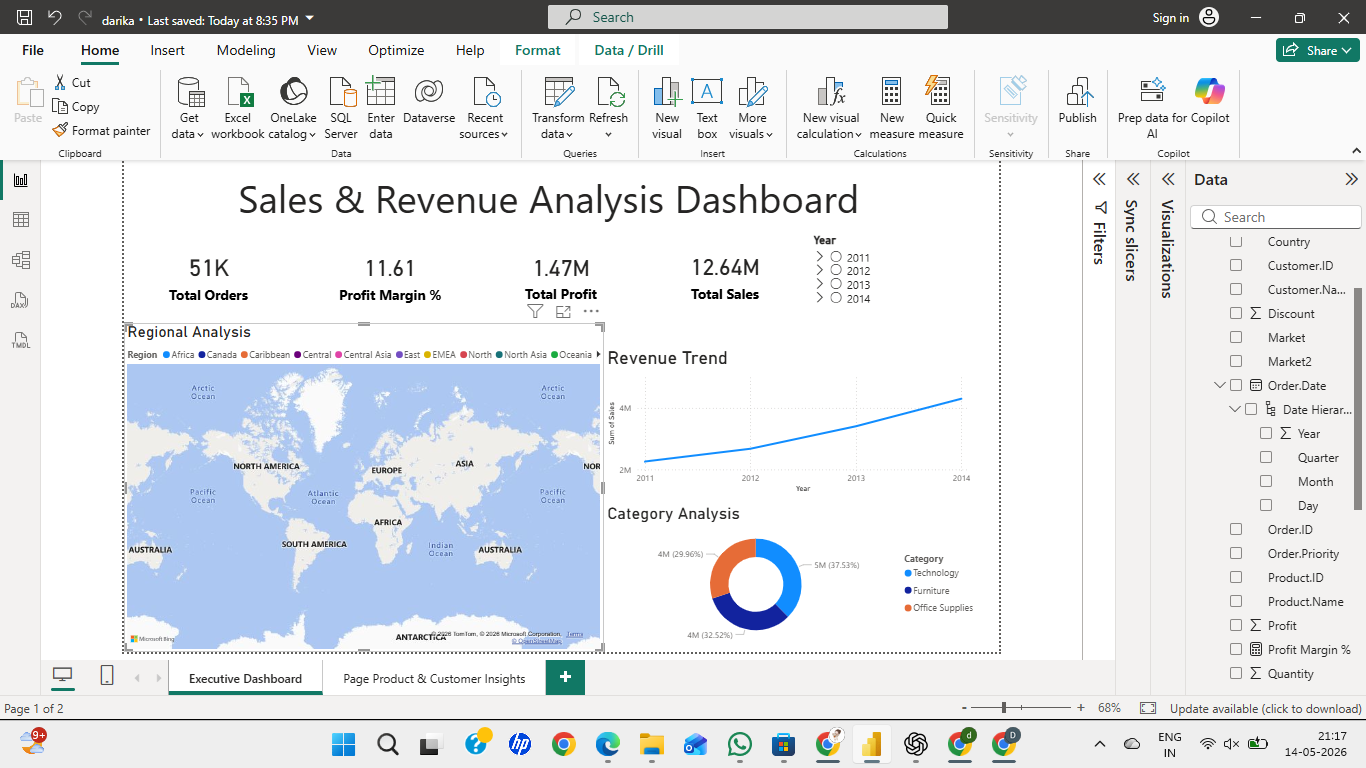

Layout of this report page (visuals, bound fields, positions):
{"tool":"powerbi","page":{"name":"Executive Dashboard","canvas":[1280,720],"ordinal":0},"visuals":[{"type":"card","fields":{"Values":["superstore.Total Orders"]},"box":[0,99.1,246.9,139.4],"z":0},{"type":"card","fields":{"Values":["superstore.Total Profit"]},"box":[509,104.1,260.4,129.3],"z":1000},{"type":"card","fields":{"Values":["superstore.Total Sales"]},"box":[739.1,94.1,280.5,149.5],"z":2000},{"type":"card","fields":{"Values":["superstore.Profit Margin %"]},"box":[246.9,104.1,283.9,131],"z":3000},{"type":"lineChart","title":"Revenue Trend","fields":{"Category":["superstore.Order.Date.Variation.Date Hierarchy.Year","superstore.Order.Date.Variation.Date Hierarchy.Quarter","superstore.Order.Date.Variation.Date Hierarchy.Month","superstore.Order.Date.Variation.Date Hierarchy.Day"],"Y":["Sum(superstore.Sales)"]},"box":[702.2,273.8,540.9,218.4],"z":4000},{"type":"donutChart","title":"Category Analysis","fields":{"Category":["superstore.Category"],"Y":["Sum(superstore.Sales)"]},"box":[702.2,503.9,554.3,208.3],"z":6000},{"type":"map","title":"Regional Analysis","fields":{"Series":["superstore.Region"],"Size":["Sum(superstore.Sales)"]},"box":[0,238.5,702.2,482.1],"z":7000},{"type":"textbox","box":[0,13.4,1243,94.1],"z":7001},{"type":"listSlicer","fields":{"Values":["superstore.Order.Date.Variation.Date Hierarchy.Year","superstore.Region","superstore.Category"]},"box":[1004.5,107.5,275.5,193.2],"z":7002}]}

Visuals, with their boxes on the page's 1280x720 design canvas (x1, y1, x2, y2). These are canvas units, not pixel positions in the 1366x768 screenshot, which may show the page scaled, cropped or inside an application window:
card - superstore.Total Orders: (0,99,247,238)
card - superstore.Total Profit: (509,104,769,233)
card - superstore.Total Sales: (739,94,1020,244)
card - superstore.Profit Margin %: (247,104,531,235)
"Revenue Trend" lineChart: (702,274,1243,492)
"Category Analysis" donutChart: (702,504,1256,712)
"Regional Analysis" map: (0,238,702,721)
textbox: (0,13,1243,108)
listSlicer - superstore.Order.Date.Variation.Date Hierarchy.Year x superstore.Region: (1004,108,1280,301)
